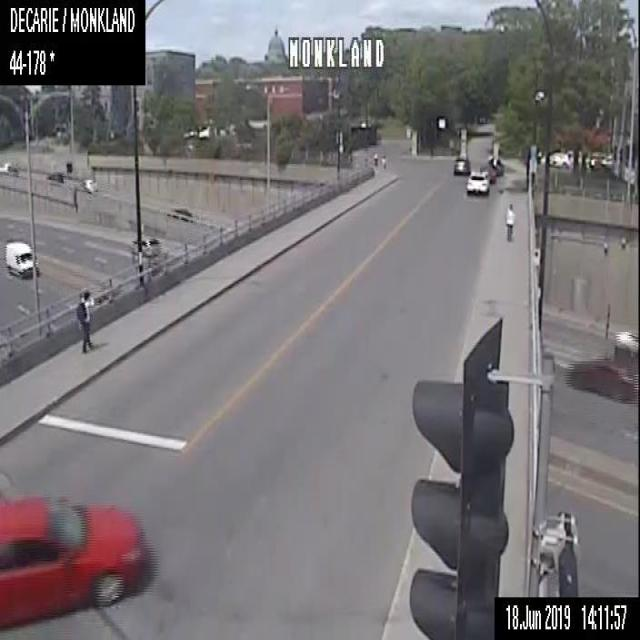pedestrian: (76, 288, 96, 352), (502, 203, 514, 241), (380, 153, 385, 172), (373, 151, 378, 169)
vehicle: (0, 494, 144, 630), (568, 357, 634, 404), (603, 328, 639, 384), (2, 240, 32, 277), (131, 233, 161, 256), (465, 170, 488, 194), (485, 154, 504, 175), (79, 178, 96, 194), (479, 162, 495, 179), (453, 155, 468, 173), (46, 171, 64, 185), (174, 205, 192, 218), (0, 159, 15, 173)
